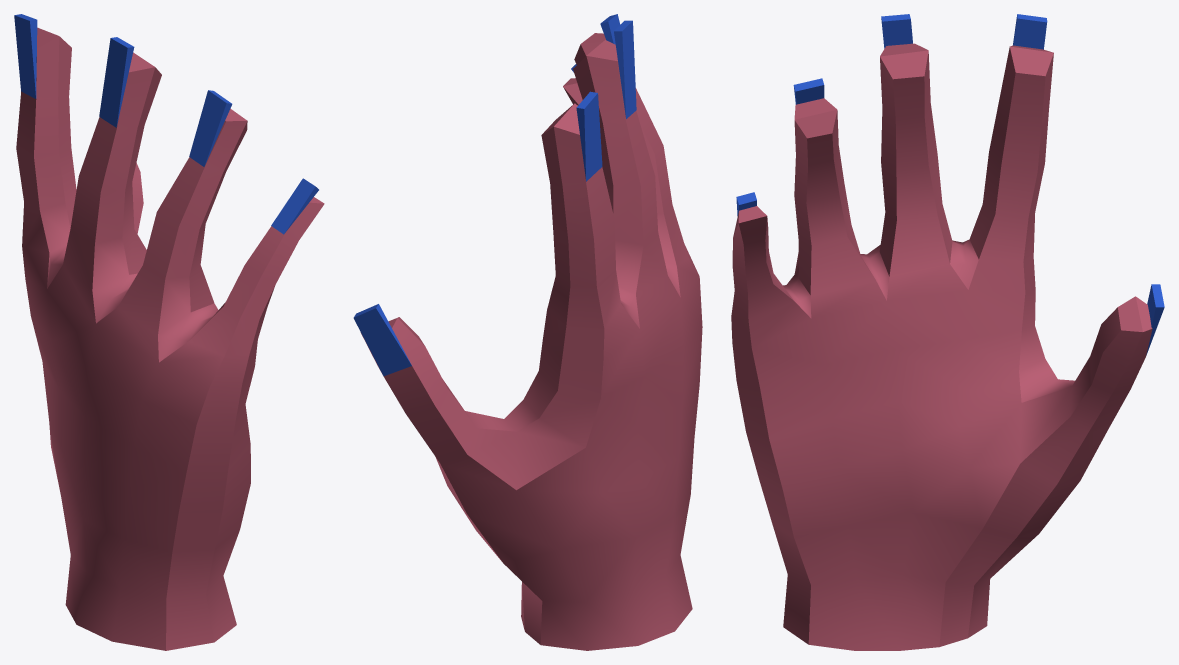
The model's file is hand_open_R.fbx.
3 views of the same model, side by side, from view 1: azimuth 30°, elevation 25°; view 2: azimuth 150°, elevation 25°; view 3: azimuth 270°, elevation 25° (orthographic). The views are drawn at different scales.
Visible parts, largest first — view 1: Hand_open_R_mesh; view 2: Hand_open_R_mesh; view 3: Hand_open_R_mesh.
Boxes of the visible parts, x1,y1,x2,y2 form: Hand_open_R_mesh: [14, 14, 324, 650]; Hand_open_R_mesh: [353, 14, 702, 650]; Hand_open_R_mesh: [731, 14, 1164, 650].
Size of the model in its own units: 1.77 by 5.34 by 3.55.
